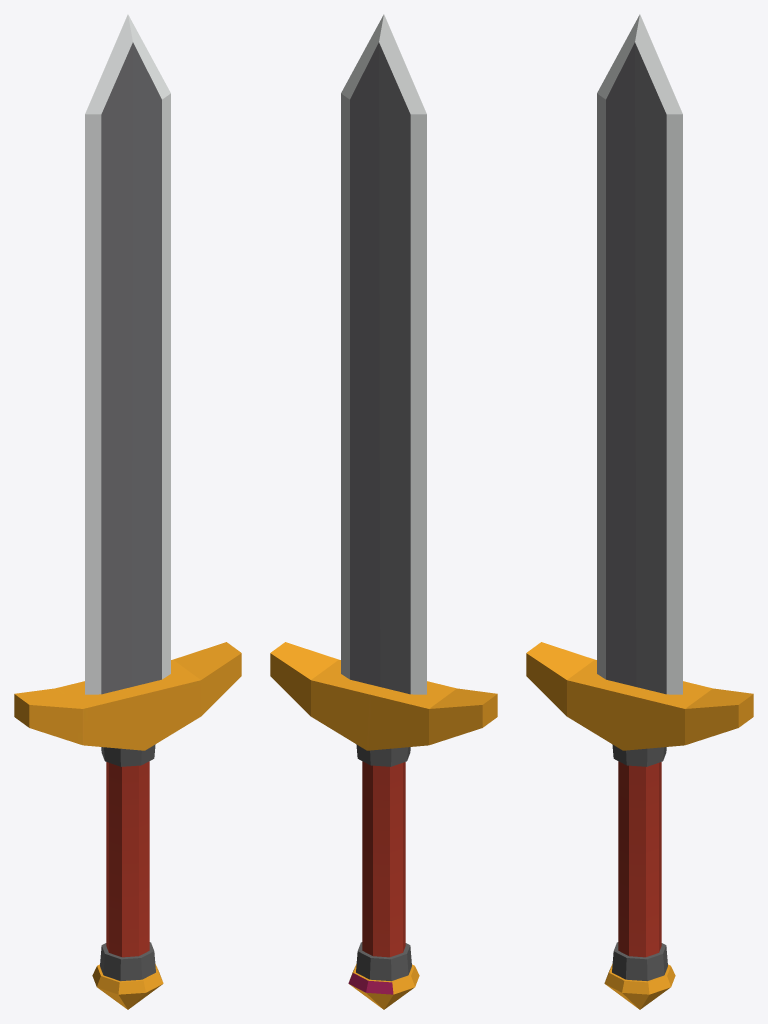
Rendered from kiem.fbx.
3 views of the same model, side by side, from view 1: azimuth 30°, elevation 25°; view 2: azimuth 150°, elevation 25°; view 3: azimuth 330°, elevation 25° (orthographic).
Parts seen in each view (by area): view 1: kiem; view 2: kiem; view 3: kiem.
Boxes of the visible parts, box(x1,y1,x2,y2) form: kiem: box(14, 14, 241, 1009); kiem: box(270, 14, 497, 1009); kiem: box(526, 14, 753, 1009).
Bounding box in the file's own units: 2.48 × 11.13 × 0.7297.
1 material, 1 textured.
